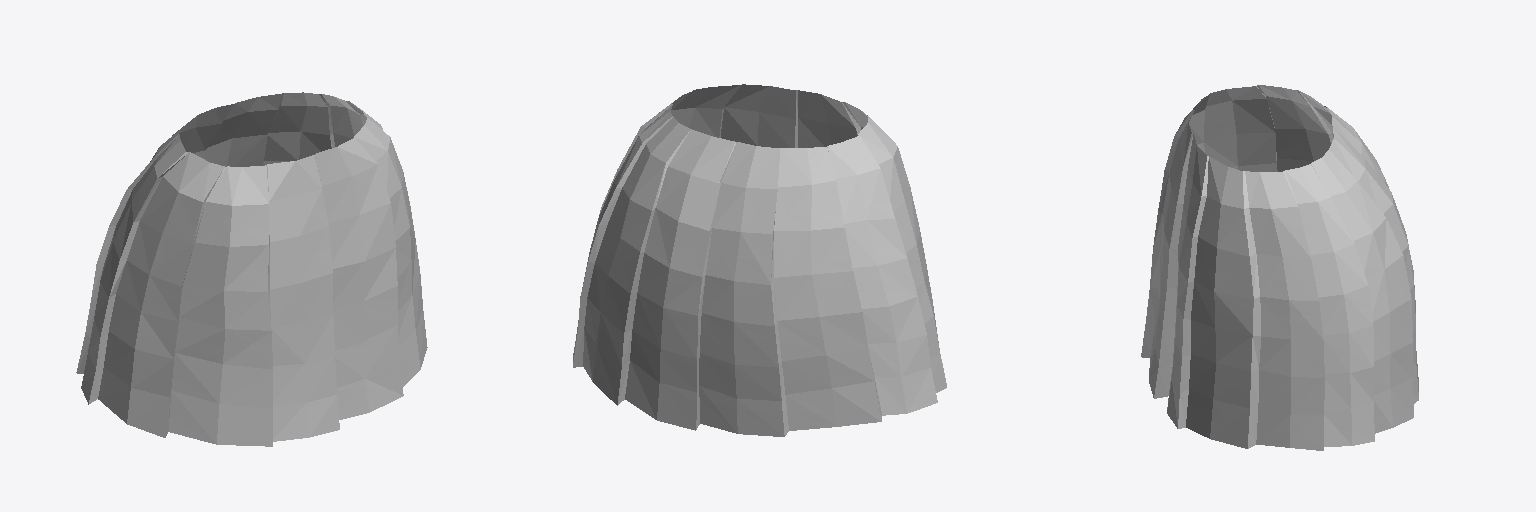
The model's file is skirt.obj.
3 views of the same model, side by side, from view 1: azimuth 30°, elevation 25°; view 2: azimuth 150°, elevation 25°; view 3: azimuth 270°, elevation 25° (orthographic).
Size of the model in its own units: 37.42 by 28.15 by 26.7.